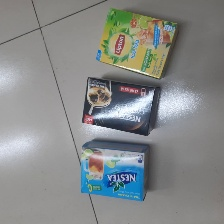CF Viet: (82, 76, 160, 136)
LipTon: (94, 7, 178, 79)
Nestea: (79, 141, 151, 202)
